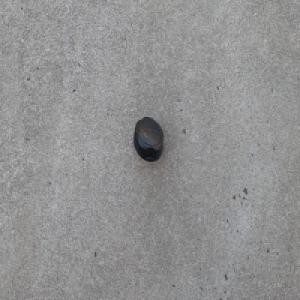FuelCap: (132, 116, 164, 162)
